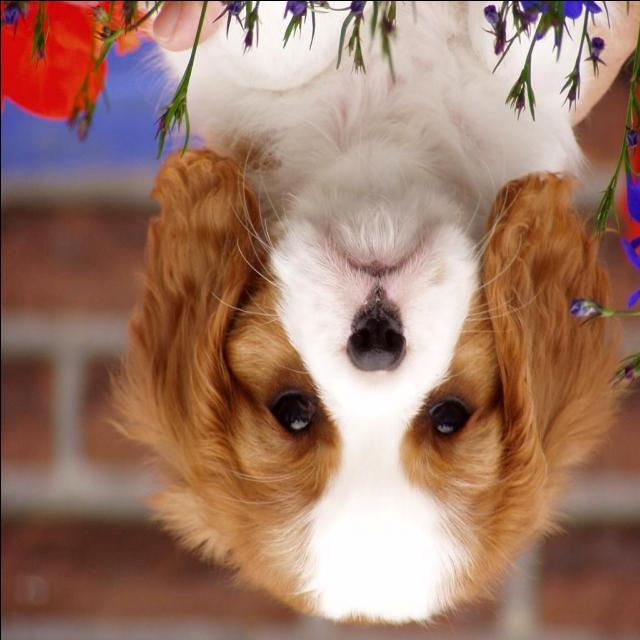blenheim_spaniel: (99, 2, 639, 624)
